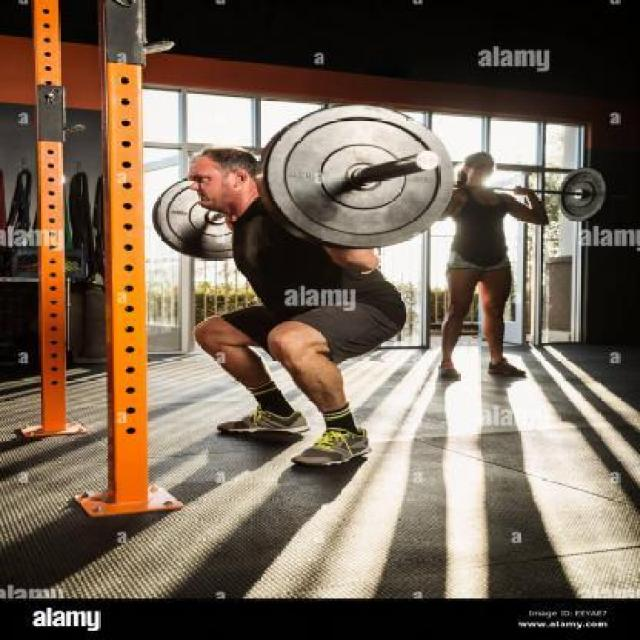barbell: (256, 99, 458, 254)
